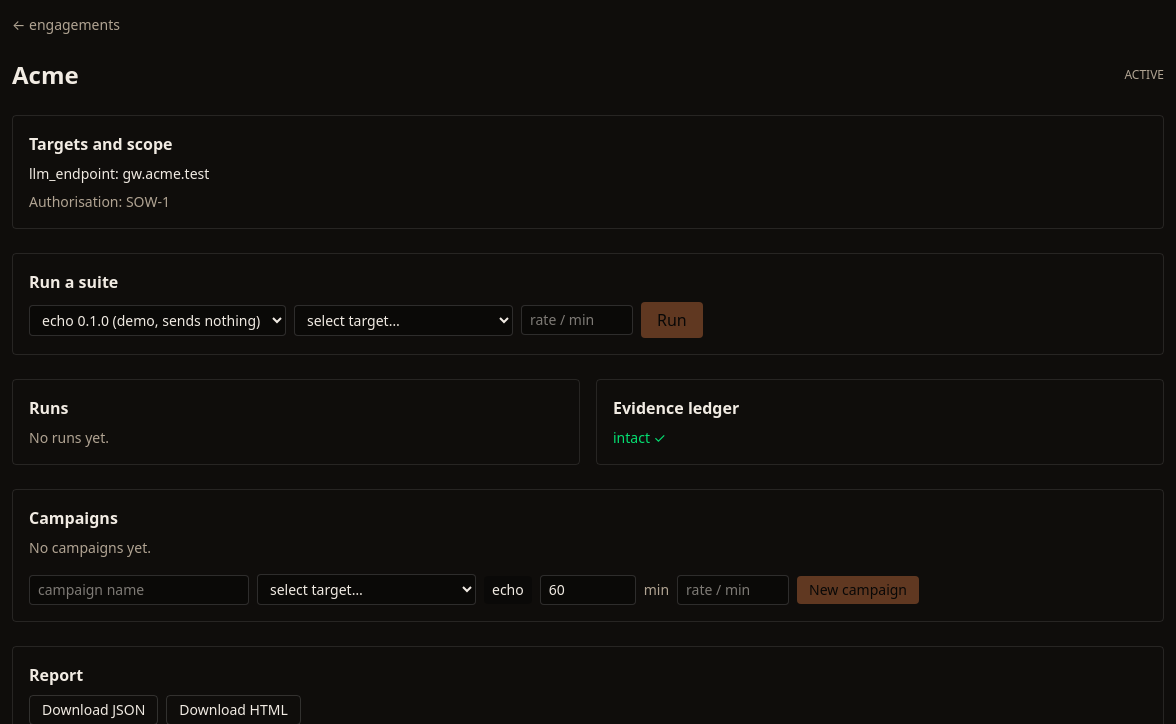
Scenario: Engagement run launcher › blocks an out-of-scope launch with the reason (scope pre-flight)
Expected: the heading "Acme" is shown, [12, 59, 79, 91]
Note: Select the target → pre-flight runs → Run stays disabled and the reason is shown.
Select "llm_endpoint: gw.acme.test" in the dropdown named "target" at x=404, y=320, box [294, 304, 513, 336]
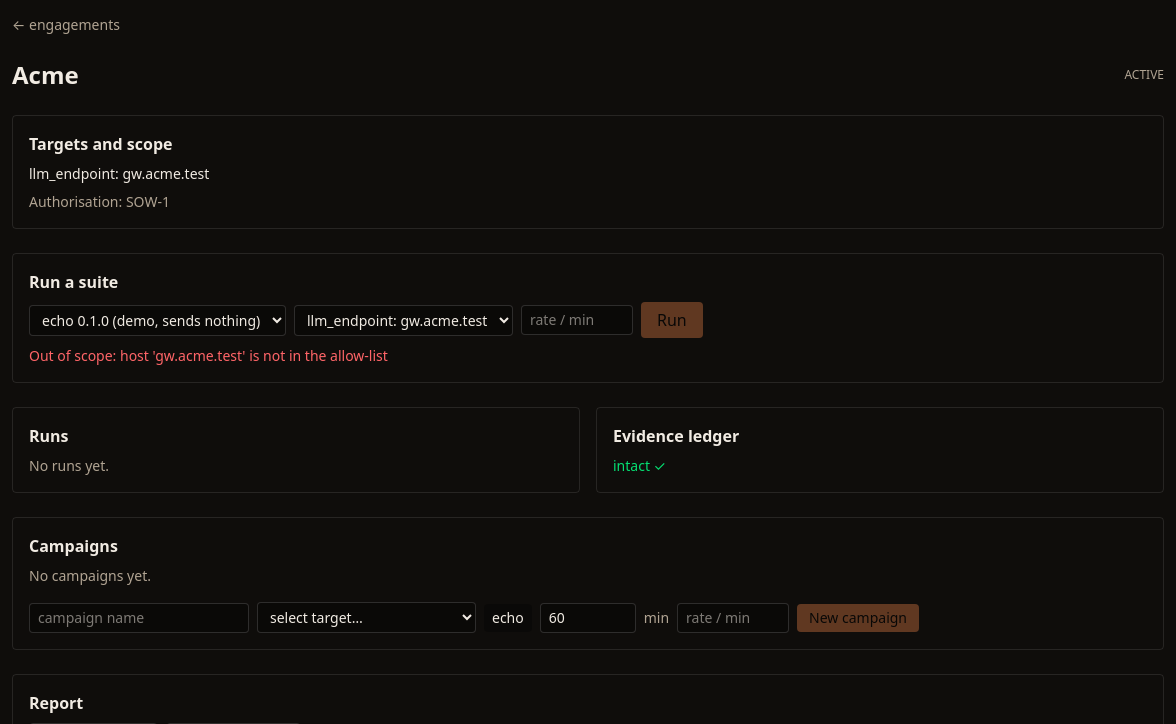
Expected: the button "Run" is disabled, [641, 302, 703, 338]
Result: the message shows "Out of scope" at [29, 346, 120, 365]
